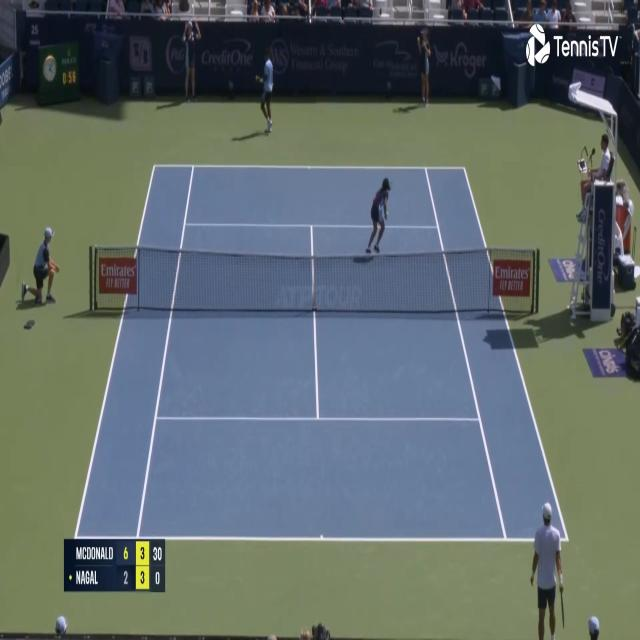tennis-player: (529, 500, 566, 640), (255, 44, 276, 134)
